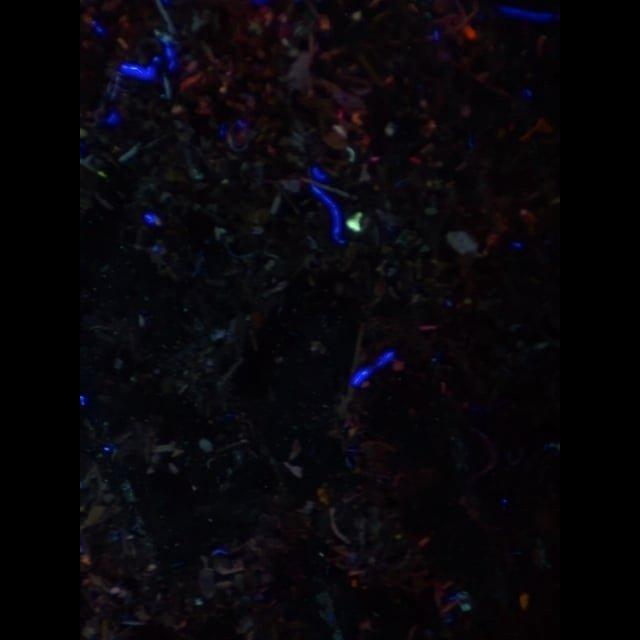microbeads: (344, 212, 366, 232)
